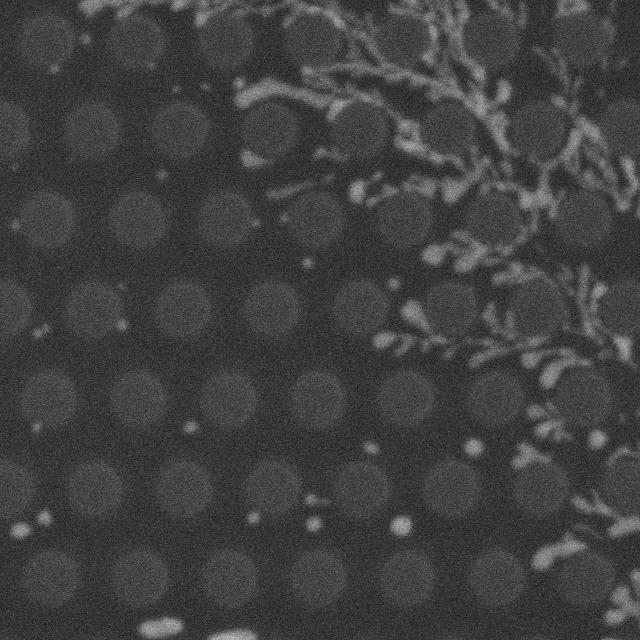Dendrite: (311, 62, 536, 165), (478, 254, 640, 377), (371, 300, 592, 388), (519, 116, 640, 234), (391, 0, 505, 108), (277, 0, 424, 71), (234, 65, 403, 123), (532, 488, 640, 571), (79, 0, 329, 28), (422, 228, 528, 274), (392, 112, 468, 176), (427, 0, 483, 82), (439, 157, 493, 205), (402, 173, 479, 204), (265, 175, 335, 204), (527, 402, 570, 439), (346, 171, 381, 201), (511, 442, 548, 469), (139, 617, 182, 639), (241, 149, 274, 168), (72, 88, 217, 92), (313, 146, 348, 162), (390, 515, 412, 537), (10, 521, 31, 538), (587, 432, 607, 449), (305, 493, 328, 506), (306, 515, 321, 531), (454, 192, 456, 193), (391, 190, 391, 190)
